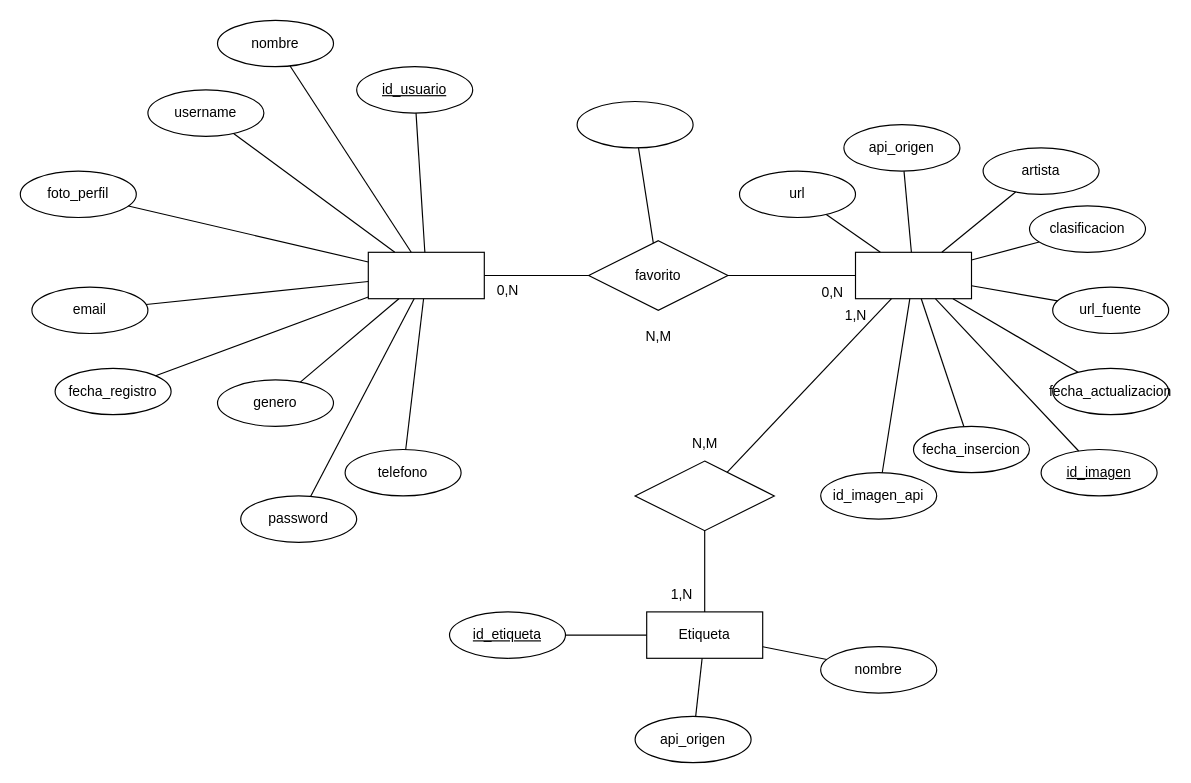
Some shapes in this 1191 by 783 pixel diagram are drawn without their labels. The centre of each missing label's shape, as x and y in pixels:
fecha_favorito: [634,124]
Imagen: [912,275]
tiene_etiqueta: [704,495]
Usuario: [425,275]
